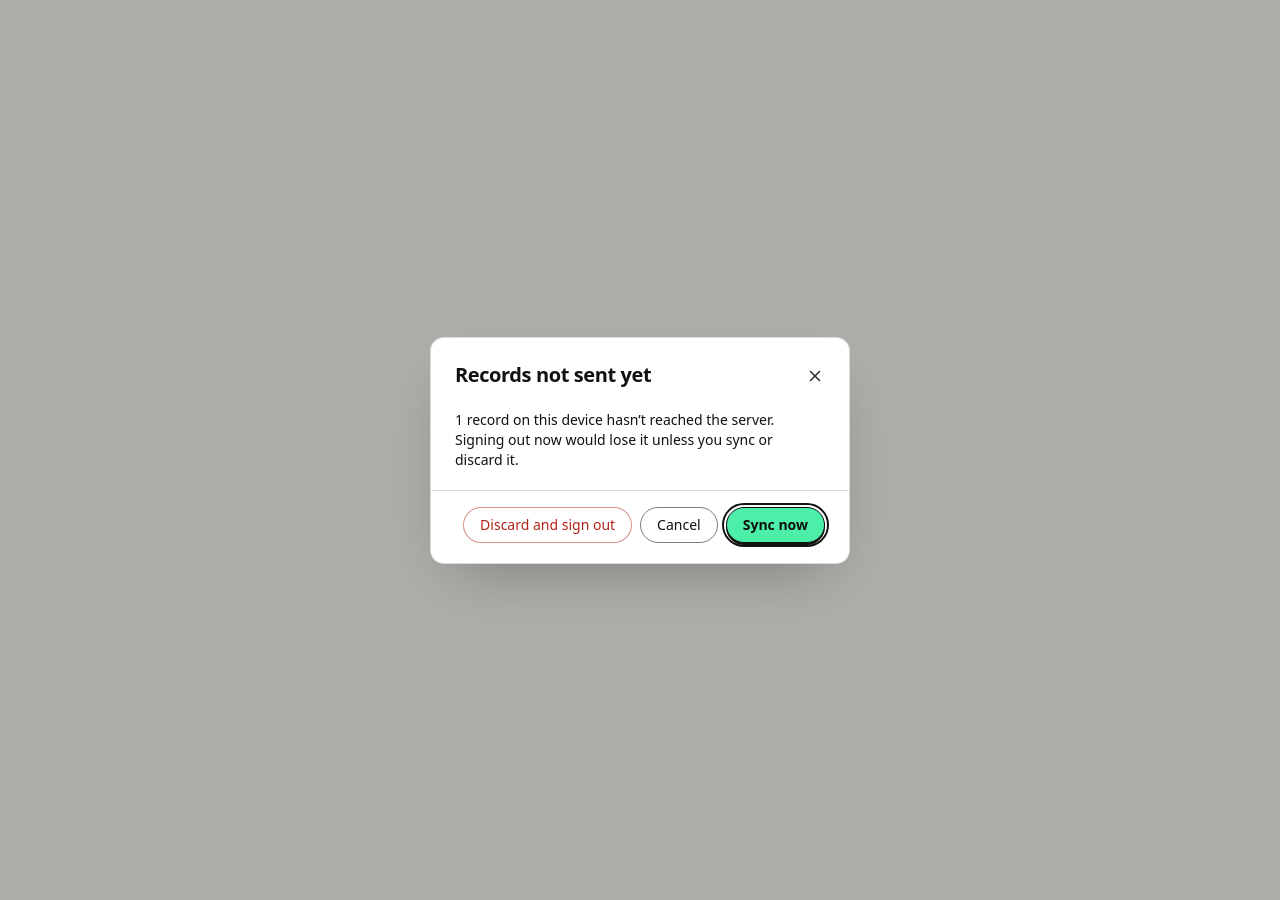
Test case: "Sync now" in a tab that could not take the right says so in words, and attempts nothing
Click the button "Sync now".
click(775, 524)  # box [726, 506, 825, 542]
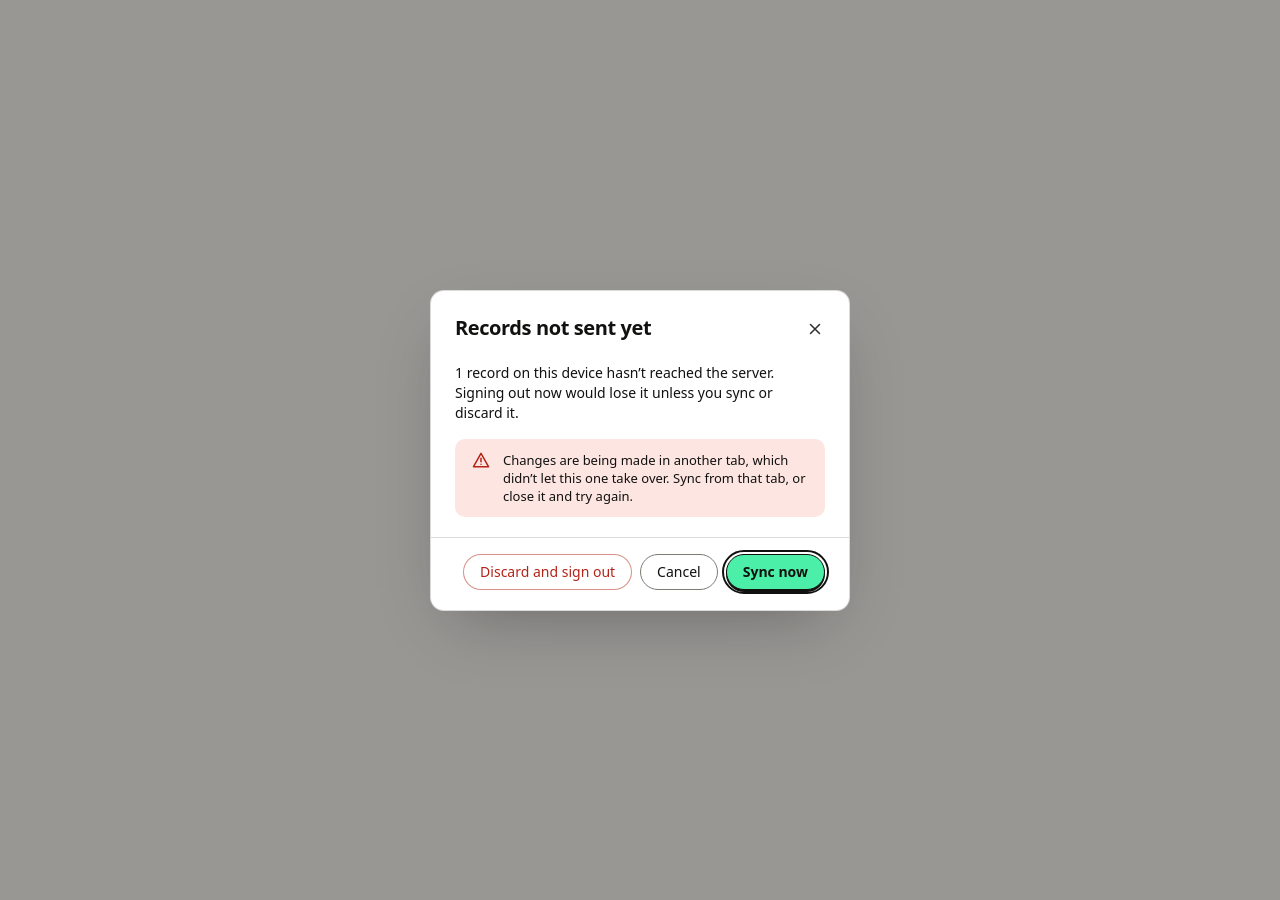
Expected: the button "Sync now" is enabled, [726, 554, 825, 590]
Now the message shows "another tab", box [503, 450, 806, 504]
